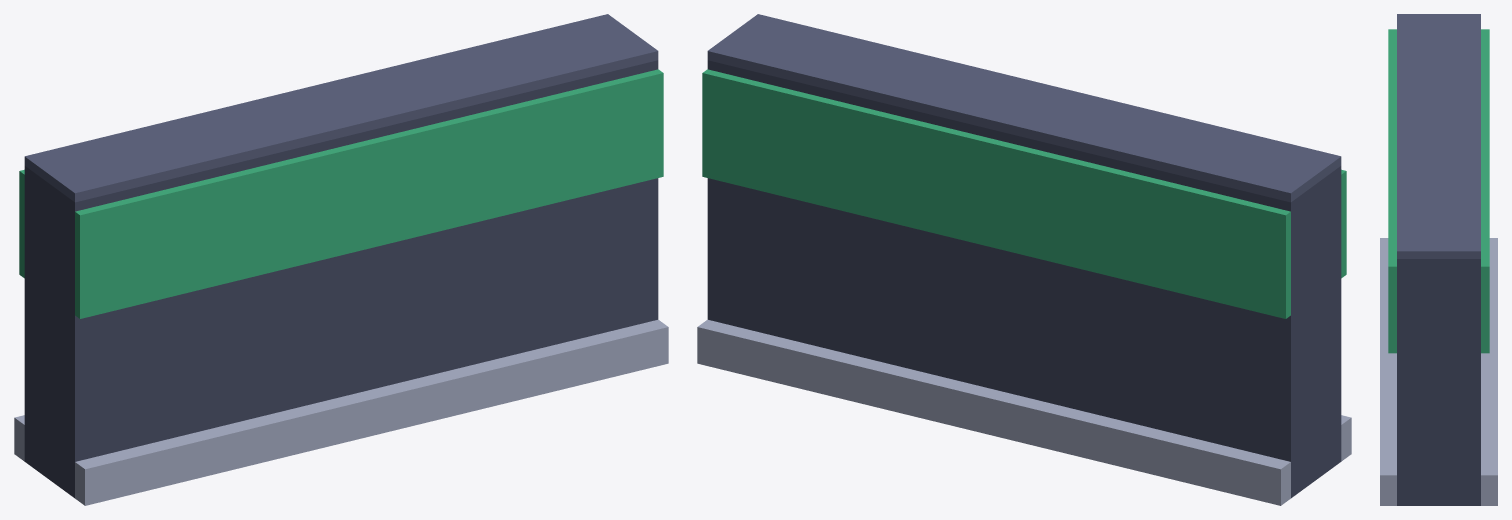
Rendered from partition-low.glb.
The picture shows the model from 3 angles, left to right: view 1: azimuth 30°, elevation 25°; view 2: azimuth 150°, elevation 25°; view 3: azimuth 270°, elevation 25°; orthographic projection. The views are drawn at different scales.
Parts seen in each view (by area): view 1: partition-low; view 2: partition-low; view 3: partition-low.
Part boxes in pixels (x1,y1,x2,y2): partition-low: (14,14,668,505); partition-low: (697,14,1351,505); partition-low: (1380,14,1497,505).
Bounding box in the file's own units: 1 × 0.5 × 0.21.
Materials: 1 (1 with a texture image).
